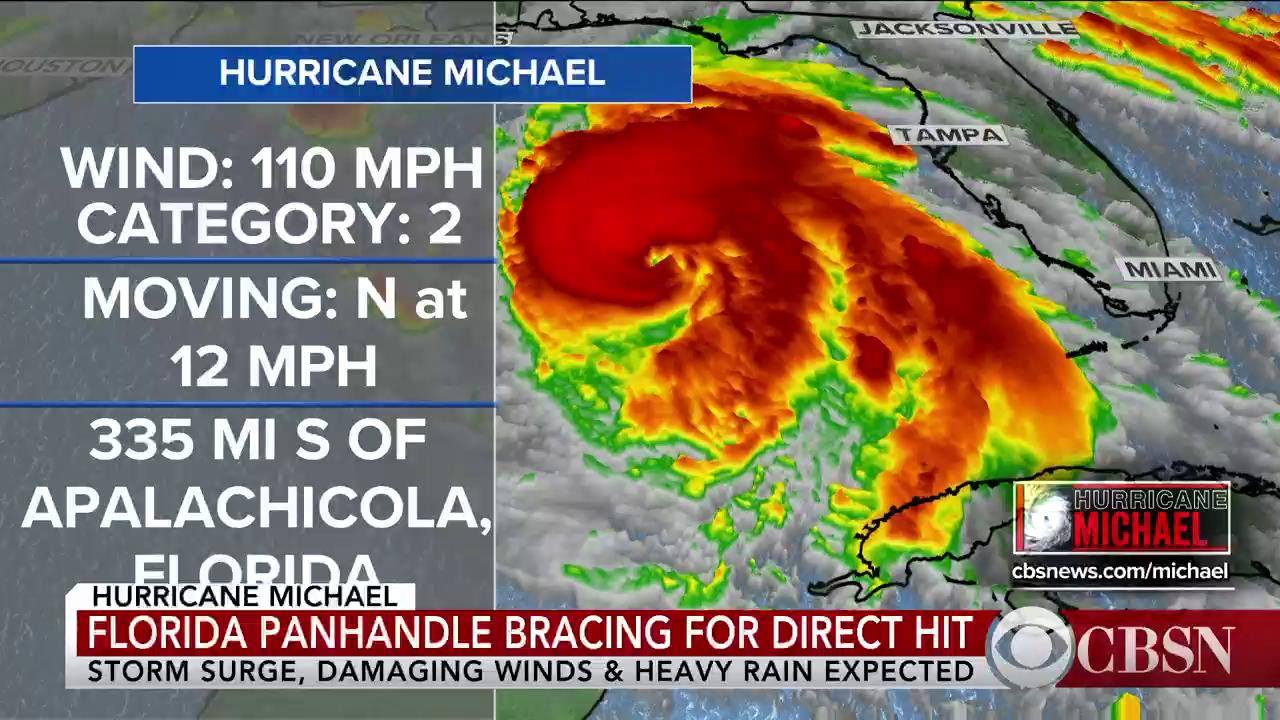12 MPH: (168, 341, 383, 391)
335 MI S OF: (86, 413, 431, 465)
APALACHICOLA,: (14, 481, 494, 536)
CATEGORY: 2: (73, 199, 464, 246)
CBSN: (1077, 625, 1237, 676)
FLORIDA: (131, 551, 384, 584)
FLORIDA PANHANDLE BRACING FOR DIRECT HIT: (85, 614, 975, 653)
HURRICANE: (1073, 486, 1229, 510)
HURRICANE MICHAEL: (217, 55, 608, 86), (89, 583, 400, 607)
JACKSONVILLE: (853, 18, 1073, 35)
MIAMI: (1123, 256, 1217, 278)
MICHAEL: (1072, 511, 1211, 548)
MOVING: N at: (82, 273, 473, 325)
NEW ORLEANS: (292, 30, 512, 44)
OUSTON: (3, 57, 127, 73)
STORM SURGE__ DAMAGING WINDS & HEAVY RAIN EXPECTED: (87, 656, 977, 684)
TAMPA: (894, 124, 1002, 141)
WIND: 110 MPH: (56, 141, 484, 192)
cbsnews.com/michael: (1010, 560, 1231, 581)
